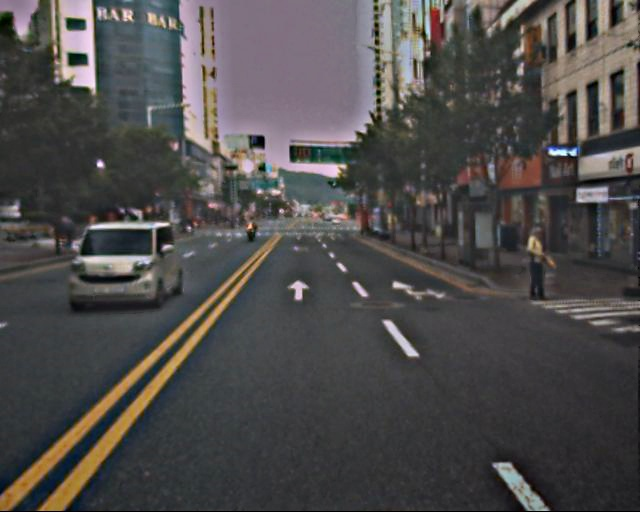person: (520, 225, 553, 306)
